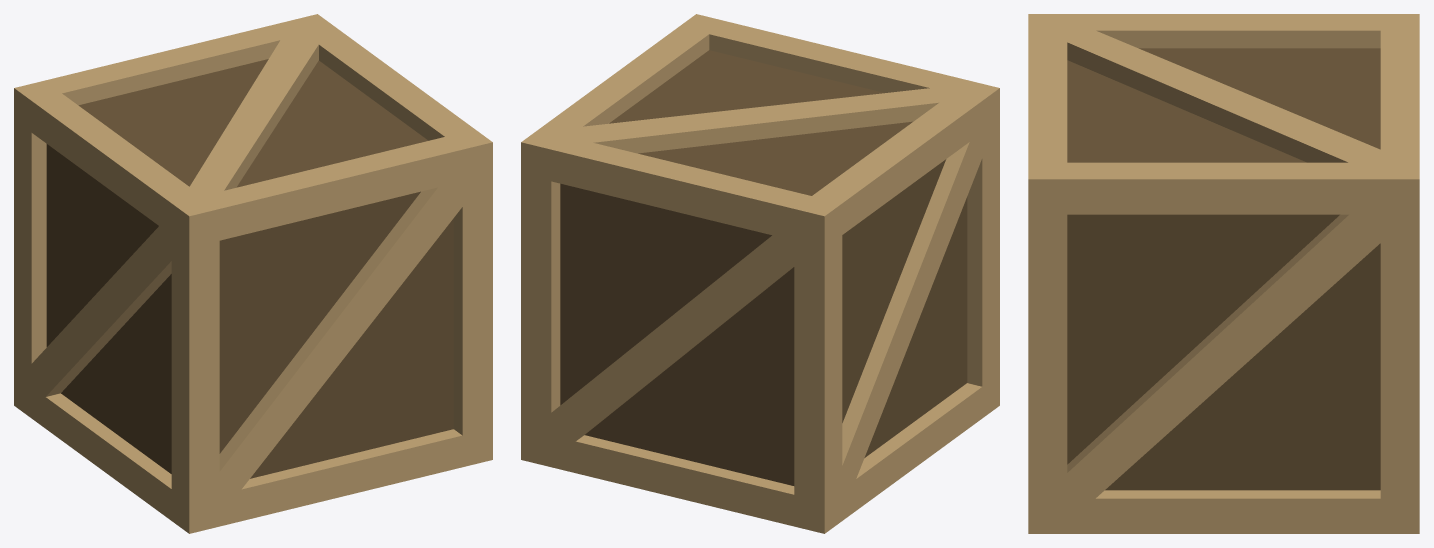
The model's file is island_crate.fbx.
3 renders of one model, left to right at view 1: azimuth 30°, elevation 25°; view 2: azimuth 150°, elevation 25°; view 3: azimuth 270°, elevation 25°, orthographic. The views are drawn at different scales.
Parts seen in each view (by area): view 1: Cube.020; view 2: Cube.020; view 3: Cube.020.
Boxes of the visible parts, x1,y1,x2,y2 form: Cube.020: (14,14,492,533); Cube.020: (521,14,999,533); Cube.020: (1028,14,1419,533).
Bounding box in the file's own units: 1 × 1 × 1.
